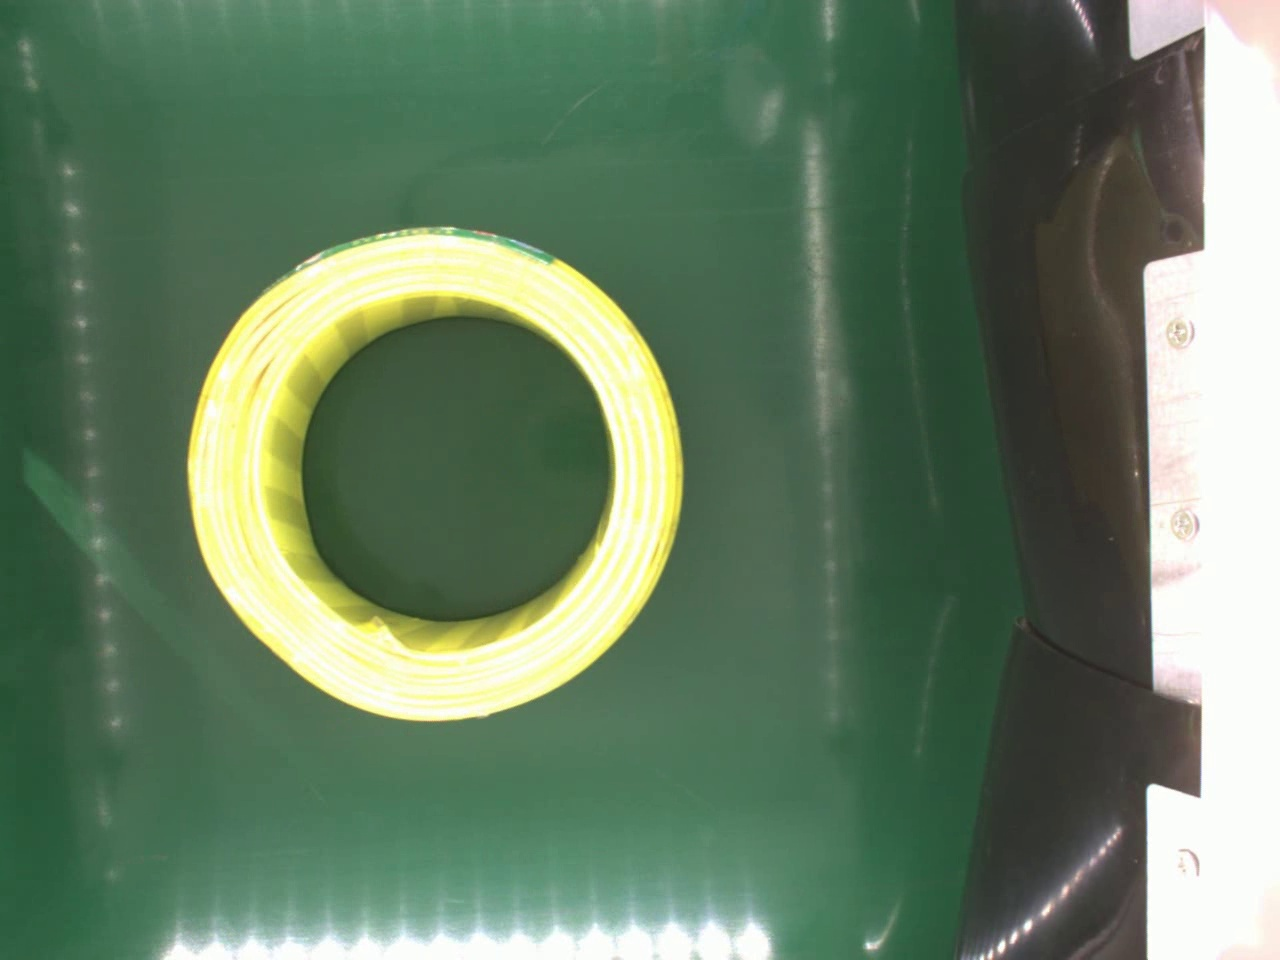yellow: (188, 226, 680, 723)
